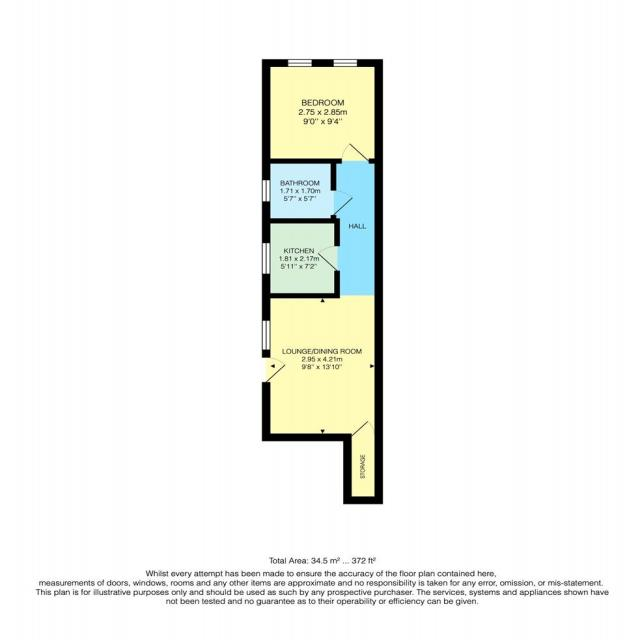DOOR: (262, 356, 288, 384), (316, 245, 340, 272), (330, 189, 354, 216), (341, 142, 370, 164)
ROOM: (262, 59, 383, 164), (262, 218, 340, 299)
WINDOW: (261, 242, 271, 275), (261, 320, 271, 351), (261, 179, 271, 202), (287, 59, 312, 67), (333, 59, 358, 67)
